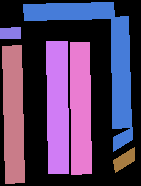parkingspot: (2, 45, 24, 183), (46, 41, 68, 173), (70, 42, 91, 174), (111, 16, 131, 128), (23, 2, 114, 20), (113, 147, 134, 172), (113, 127, 132, 151), (0, 27, 20, 38)
